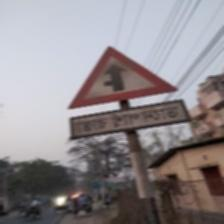Side-road-right: (66, 46, 180, 133)
